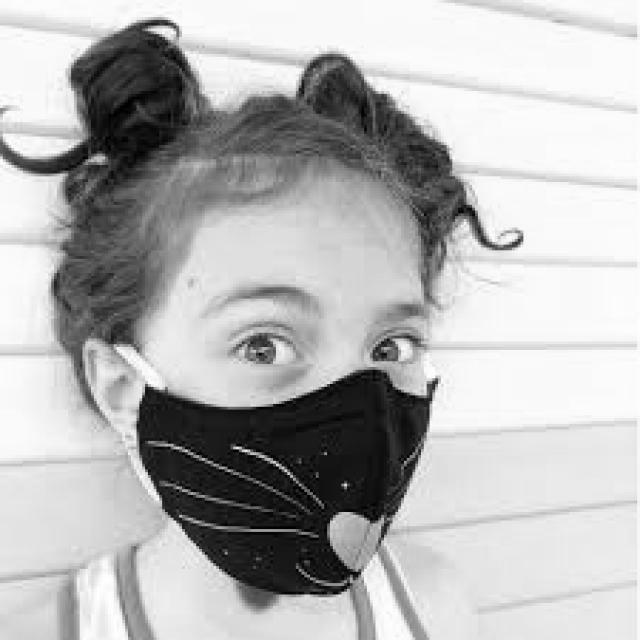fake: (138, 367, 442, 598)
real: (135, 175, 434, 605)
